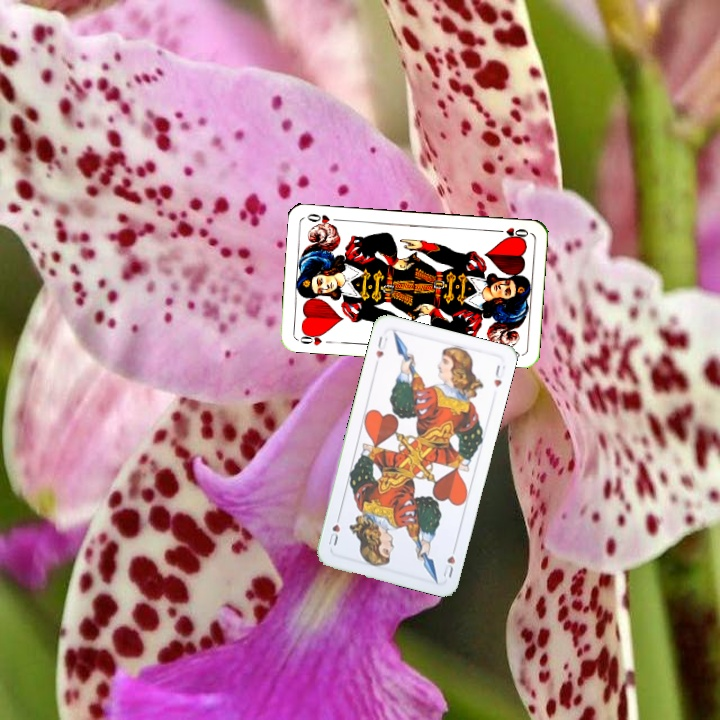HO: (491, 223, 531, 242), (294, 328, 327, 348)
HU: (439, 541, 459, 581), (372, 331, 390, 361)
